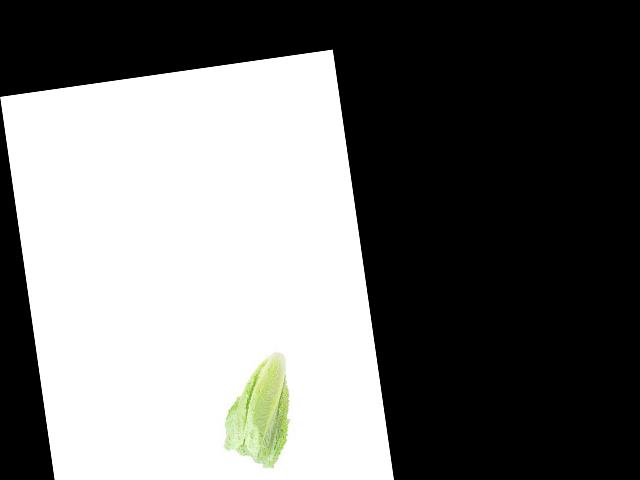lettuce: (212, 345, 305, 470)
